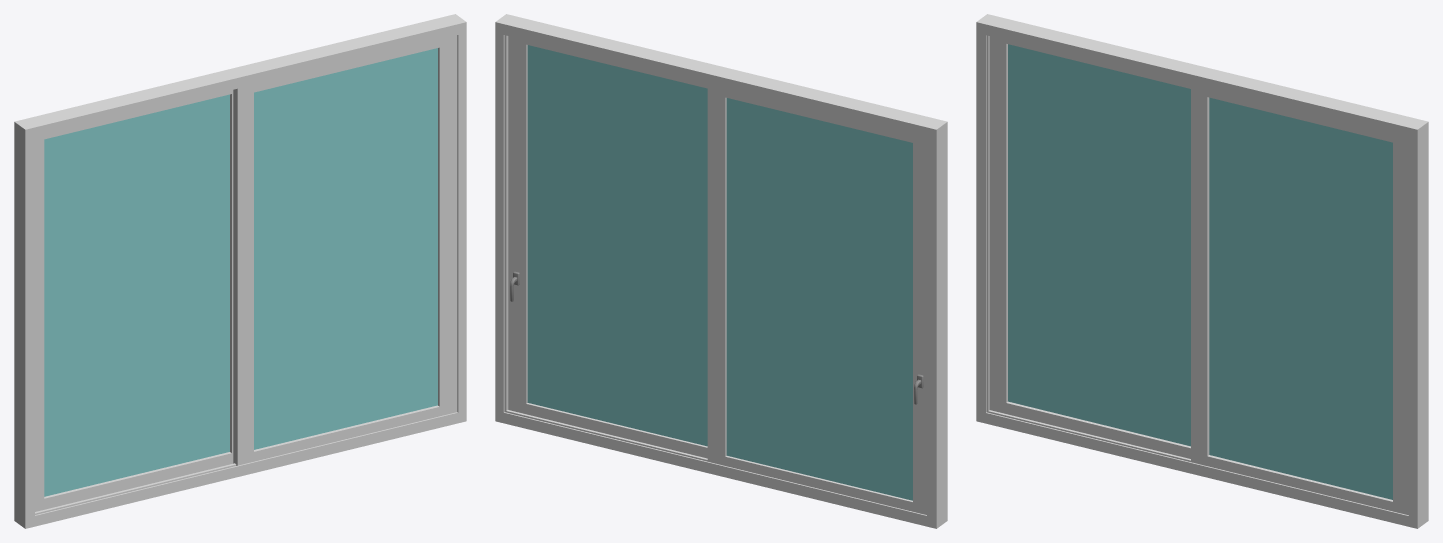
The model's file is WindowRear2.fbx.
3 renders of one model, left to right at view 1: azimuth 30°, elevation 25°; view 2: azimuth 150°, elevation 25°; view 3: azimuth 330°, elevation 25°, orthographic.
Parts seen in each view (by area): view 1: Box025, Box035, WindowRight_003, InLeft016, InLeft007; view 2: Box025, Box035, WindowRight_003, InLeft007, InLeft016; view 3: Box035, Box025, WindowRight_003, InLeft016, InLeft007.
Part boxes in pixels (bbox=[...]): Box025: bbox=[44, 94, 229, 496]; Box035: bbox=[254, 48, 437, 449]; WindowRight_003: bbox=[14, 14, 466, 528]; InLeft016: bbox=[233, 35, 457, 465]; InLeft007: bbox=[35, 90, 233, 511]; Box025: bbox=[726, 98, 912, 500]; Box035: bbox=[527, 45, 707, 446]; WindowRight_003: bbox=[495, 14, 947, 528]; InLeft007: bbox=[707, 84, 926, 514]; InLeft016: bbox=[508, 36, 707, 458]; Box035: bbox=[1209, 97, 1392, 499]; Box025: bbox=[1008, 44, 1190, 446]; WindowRight_003: bbox=[976, 14, 1428, 528]; InLeft016: bbox=[1191, 85, 1408, 515]; InLeft007: bbox=[989, 36, 1190, 458].
Size of the model in its own units: 127 by 110 by 8.07.
